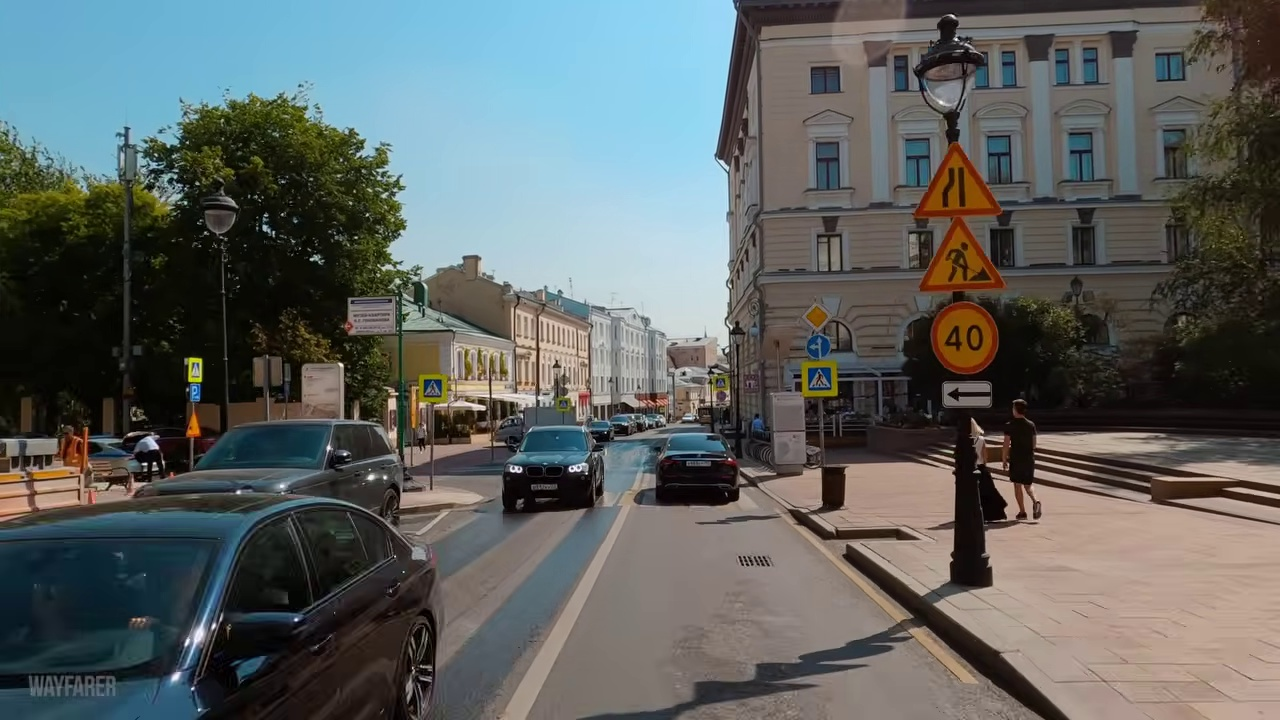apagada: (913, 48, 983, 118)
